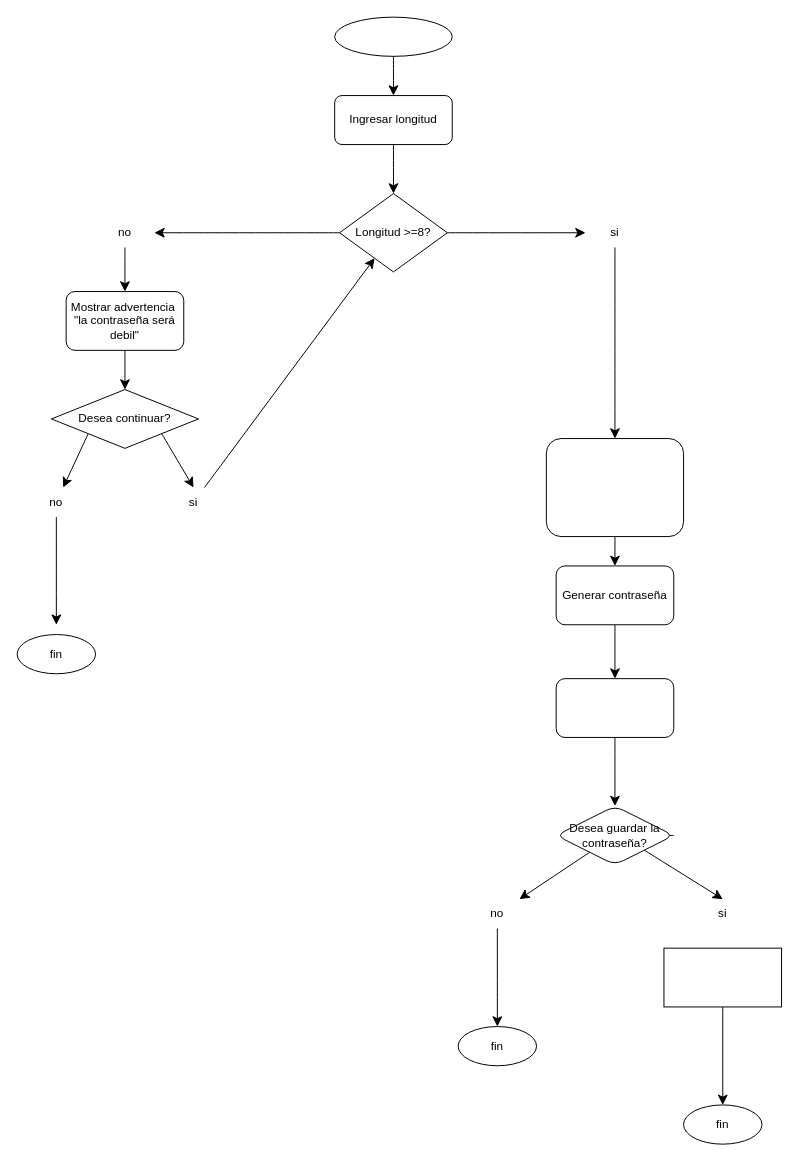
The diagram is 799 pixels wide and 1161 high, and some of its shapes have lost their labels. The shapes that lost their labels are listed below. From the top down, each one's box as (x1, y1, x2, y2) in pixels, then its label:
(334, 16, 452, 56): inicio
(545, 438, 684, 537): Seleccionar: -Mayusculas -Numeros -Simbolos
(555, 678, 674, 737): Evaluar Fortaleza
(663, 947, 782, 1007): Guardar contraseña
